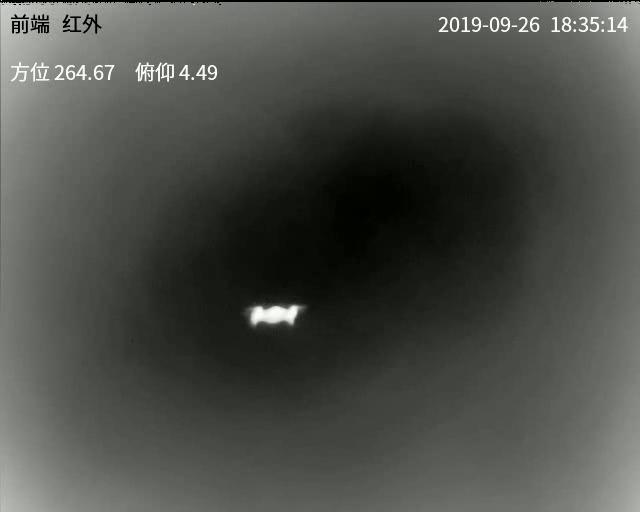DRONE: (247, 304, 301, 327)
